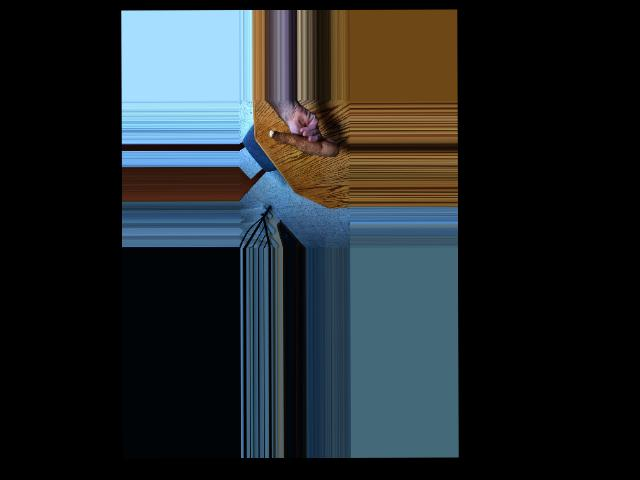sweet_potato: (268, 127, 339, 158)
